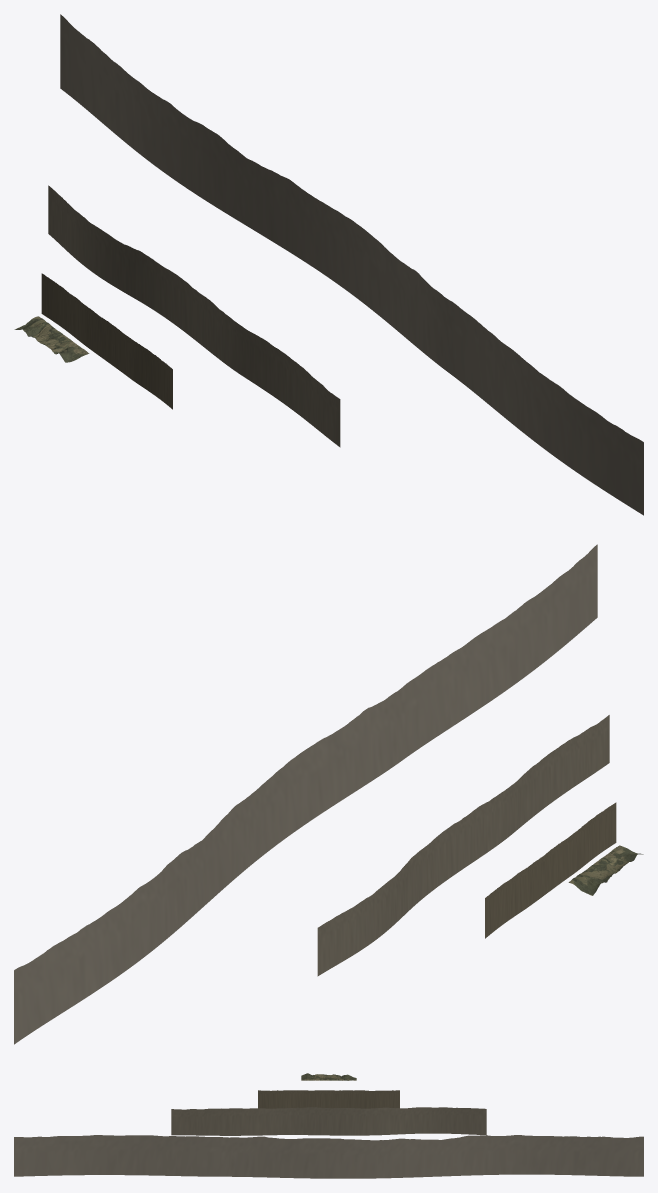
Rendered from felsmulde-fernhang.glb.
The picture shows the model from 3 angles, top to bottom: view 1: azimuth 30°, elevation 25°; view 2: azimuth 150°, elevation 25°; view 3: azimuth 270°, elevation 25°; orthographic projection. The views are drawn at different scales.
Visible parts, largest first — view 1: Fernrücken; view 2: Fernrücken; view 3: Fernrücken.
Boxes of the visible parts, x1,y1,x2,y2 form: Fernrücken: (14, 14, 643, 515); Fernrücken: (14, 544, 643, 1044); Fernrücken: (14, 1073, 643, 1178).
Bounding box in the file's own units: 8114 × 1828 × 25600.
Materials: 1 (1 with a texture image).
